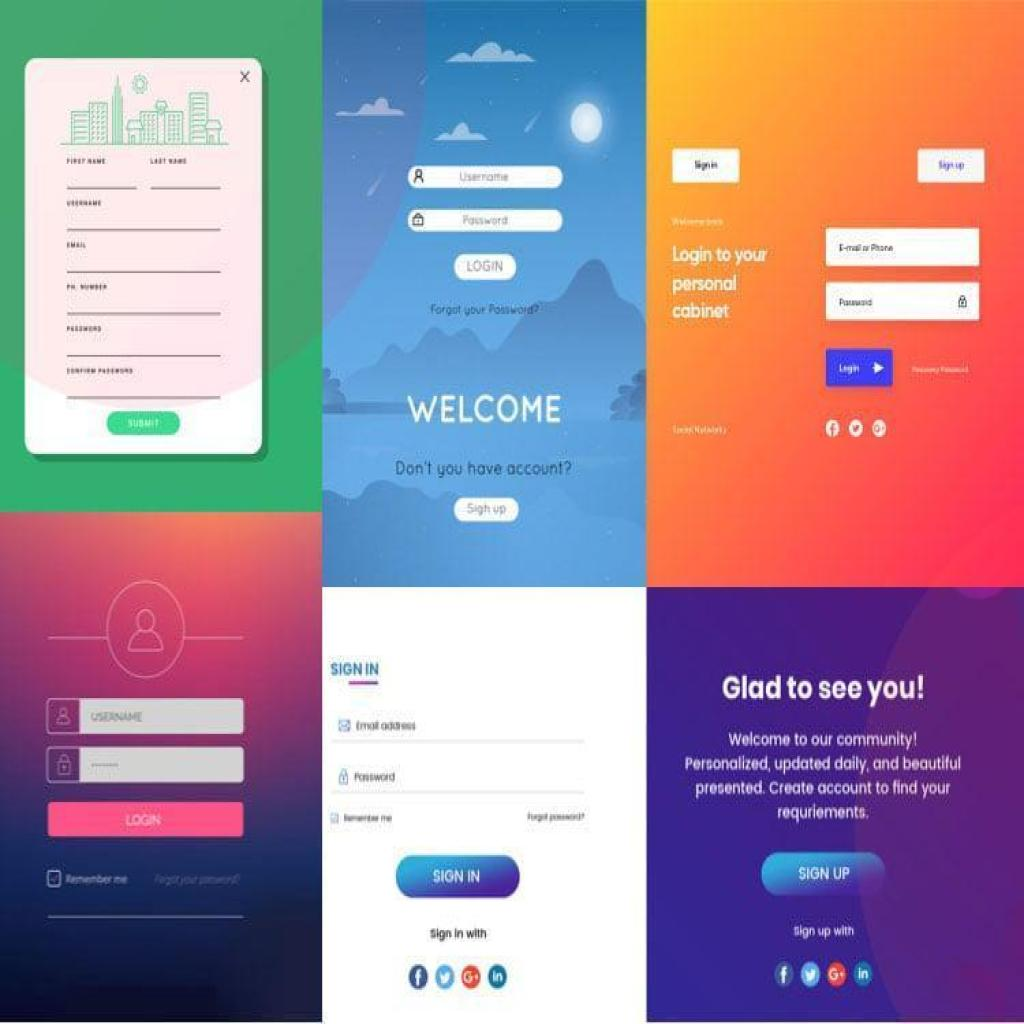button: (48, 800, 243, 834), (396, 854, 522, 900), (760, 852, 884, 896), (672, 148, 740, 184), (825, 352, 893, 384), (919, 148, 983, 182), (454, 252, 518, 282), (108, 411, 180, 437), (454, 497, 518, 522)
checkbox: (46, 870, 63, 890), (329, 811, 339, 826)
icon: (126, 608, 169, 660), (489, 961, 512, 995), (852, 957, 875, 990), (406, 962, 430, 992), (770, 962, 795, 990), (434, 962, 456, 992), (462, 962, 484, 992), (52, 701, 74, 729), (800, 961, 821, 990), (824, 961, 846, 988), (823, 418, 844, 440), (56, 751, 72, 778), (870, 416, 889, 438), (847, 416, 864, 438), (336, 716, 353, 736), (334, 766, 350, 787), (412, 166, 426, 186), (957, 294, 969, 310)
input: (46, 698, 244, 734), (46, 748, 244, 782), (825, 229, 979, 266), (825, 282, 979, 319), (408, 166, 563, 190), (407, 210, 562, 232)
label: (64, 872, 130, 889), (63, 365, 134, 379), (342, 809, 394, 826), (66, 154, 110, 167), (64, 282, 111, 294), (148, 155, 188, 169), (64, 323, 105, 336), (66, 200, 104, 210), (66, 236, 88, 252)
